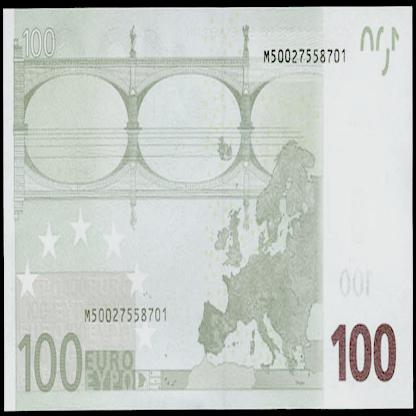euro_banknote: (4, 9, 414, 410)
